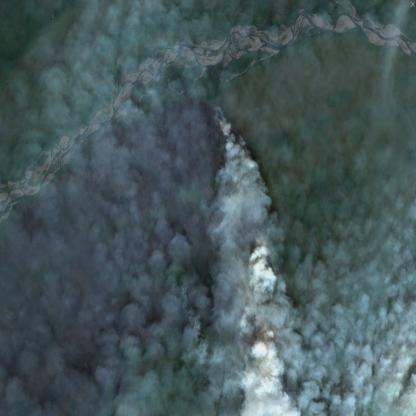fire: (203, 97, 237, 147), (249, 228, 275, 268)
